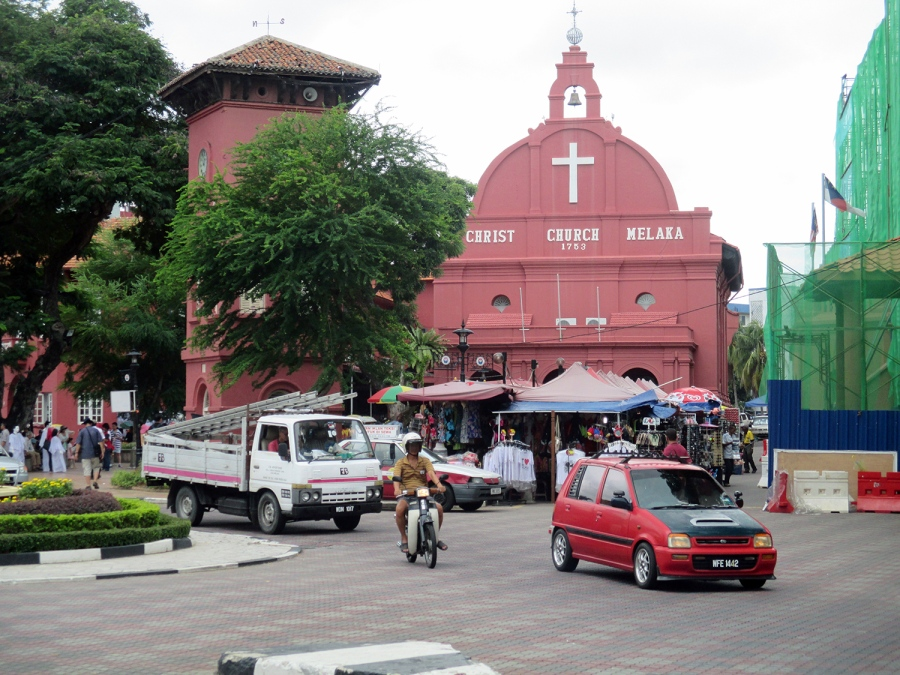Church: (430, 1, 736, 412)
